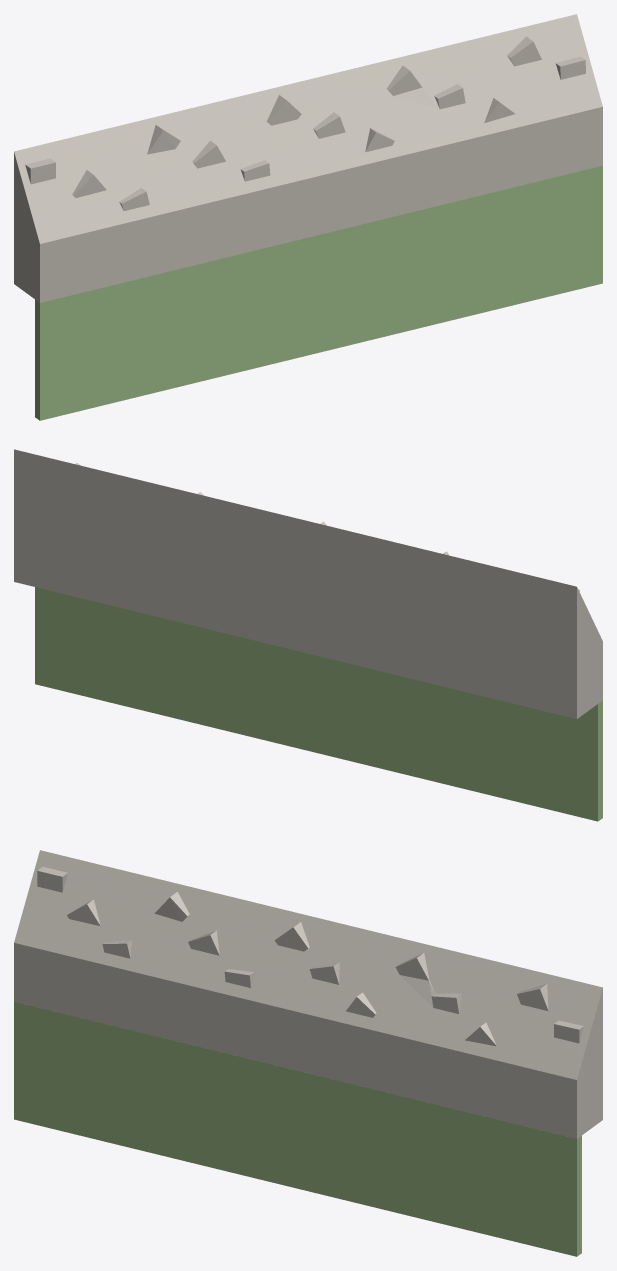
Rendered from r-109-seekonk-riprap-bank.glb.
3 views of the same model, one above another, from view 1: azimuth 30°, elevation 25°; view 2: azimuth 150°, elevation 25°; view 3: azimuth 330°, elevation 25° (orthographic).
Parts seen in each view (by area): view 1: riprap, verge; view 2: riprap, verge; view 3: riprap, verge.
Boxes of the visible parts, left/top/right/bottom form: riprap: left=14, top=14, right=602, bottom=302; verge: left=35, top=165, right=602, bottom=420; riprap: left=14, top=449, right=602, bottom=718; verge: left=35, top=587, right=602, bottom=821; riprap: left=14, top=850, right=602, bottom=1138; verge: left=14, top=1001, right=581, bottom=1256.
Size of the model in its own units: 20000 by 8499 by 1600.
